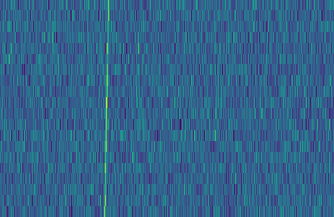signal: (99, 0, 111, 217)
